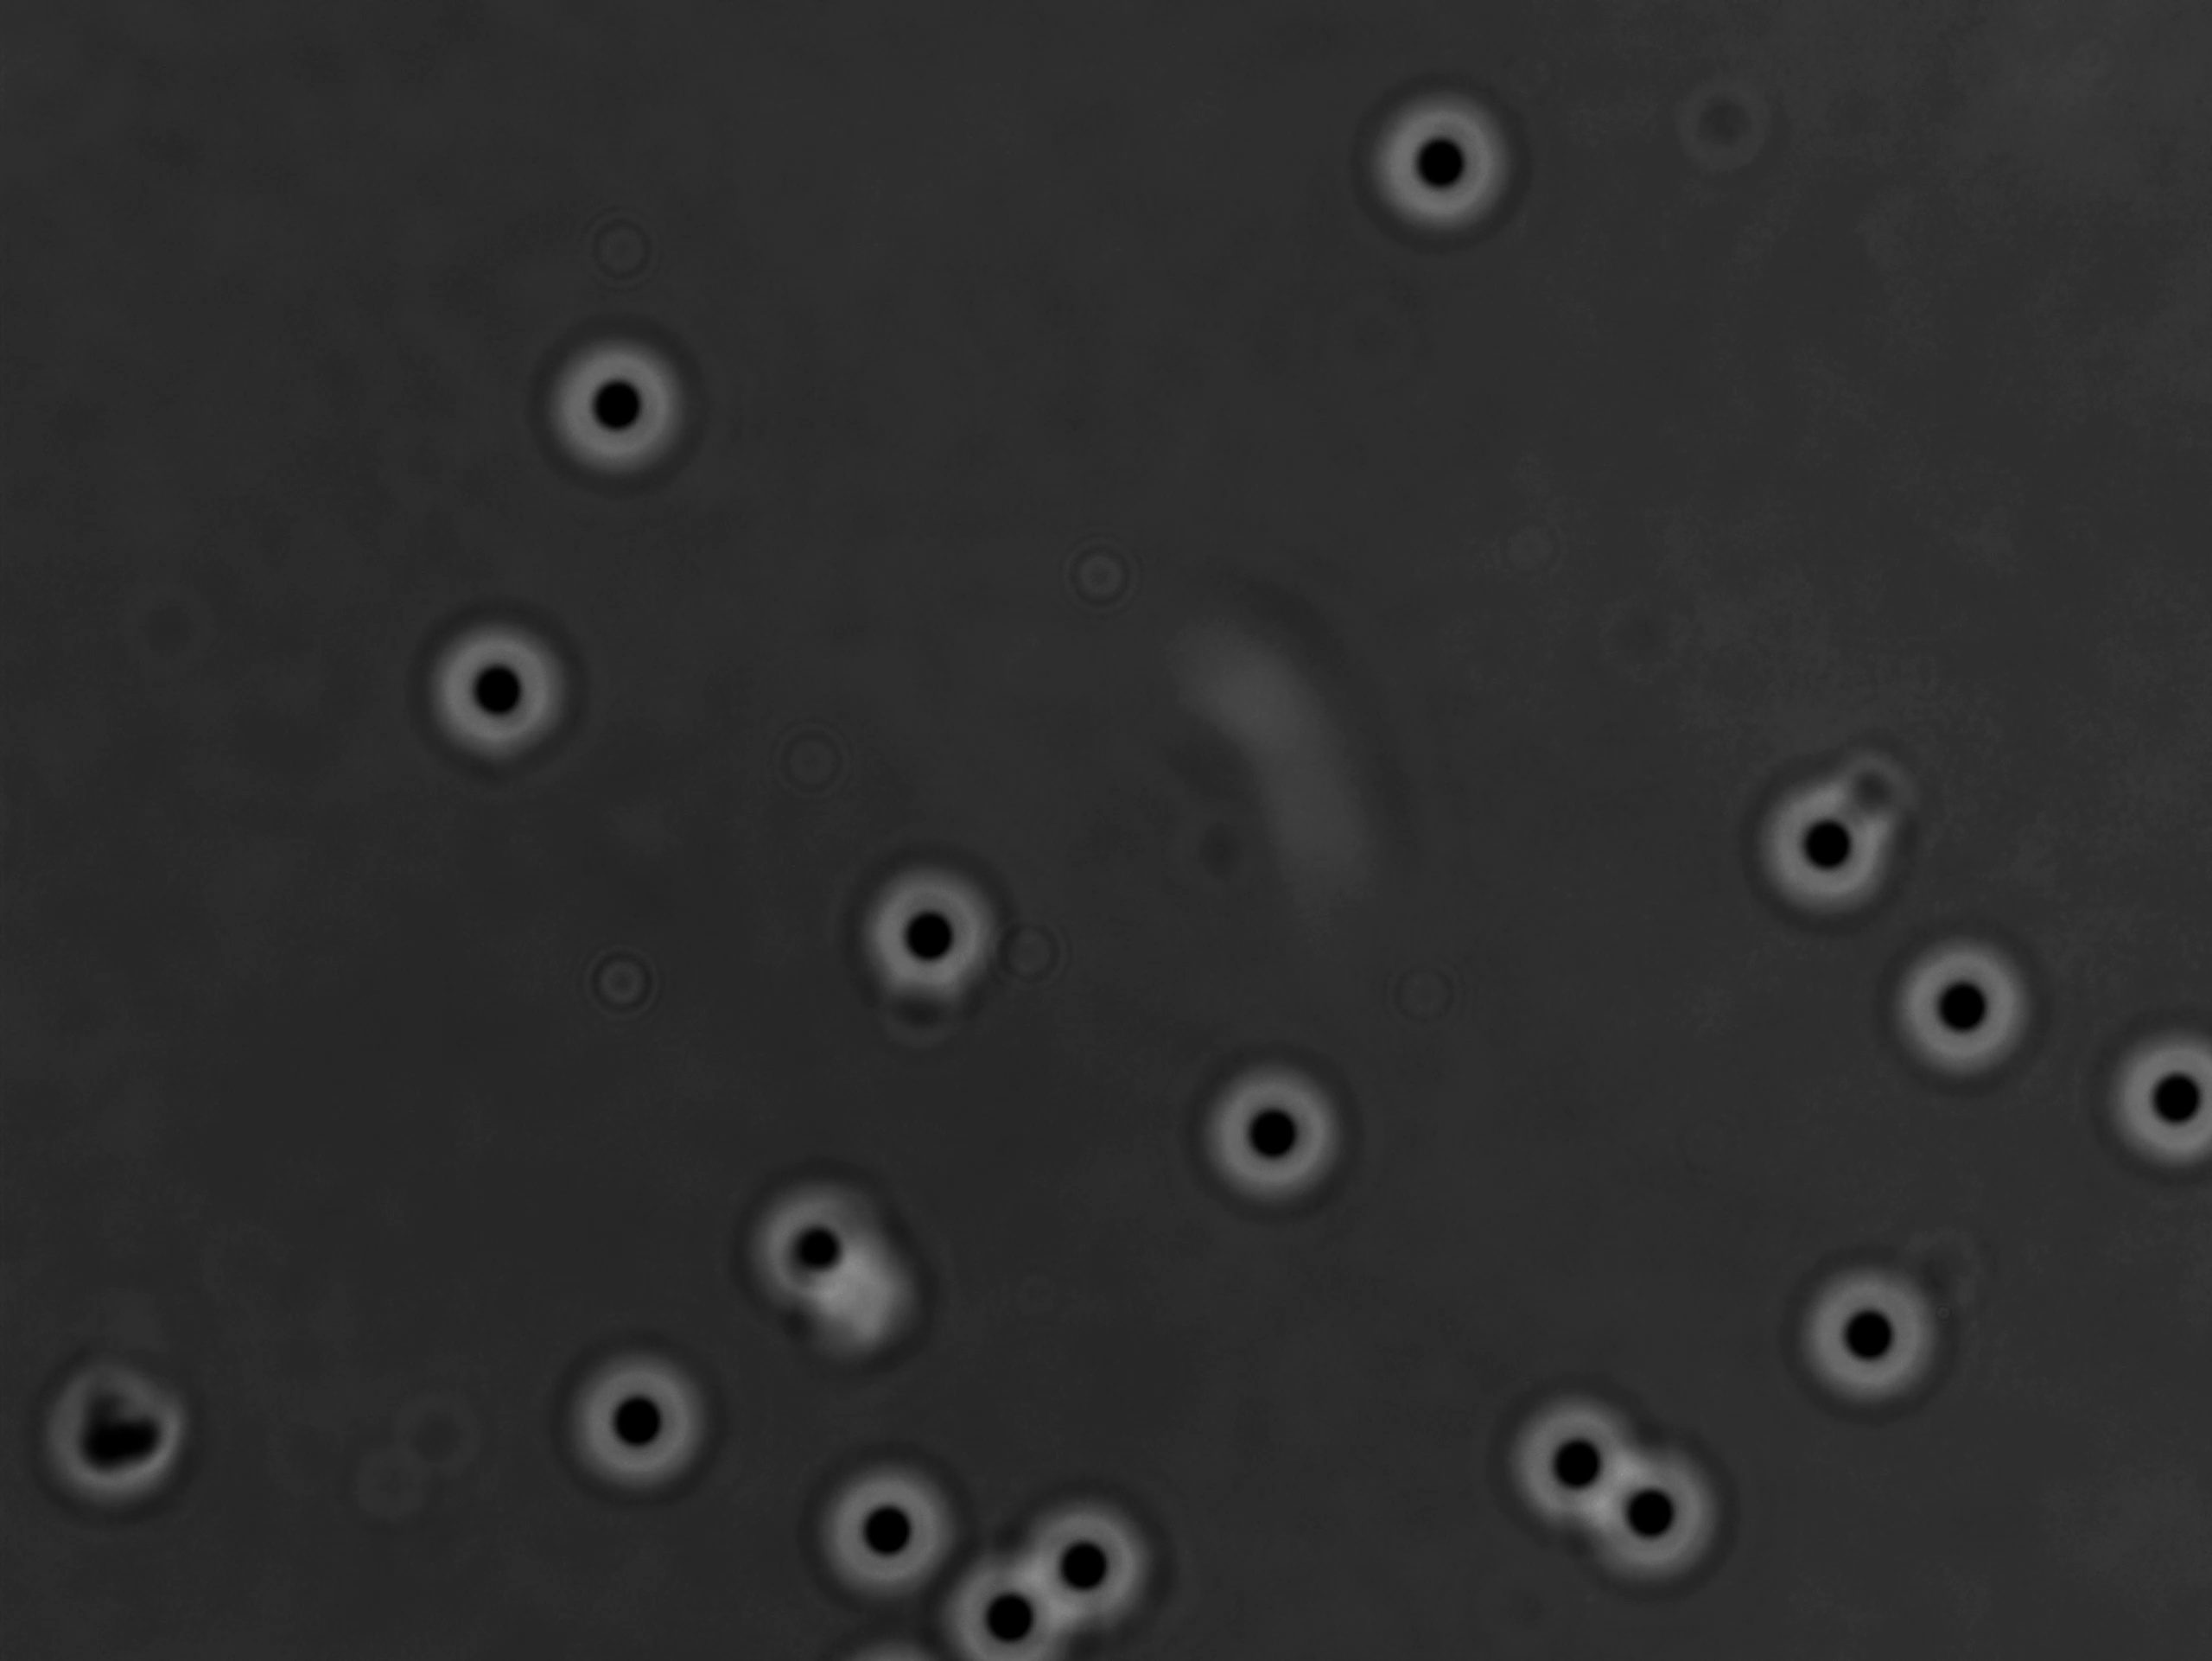depth:-40: (398, 593, 584, 776), (1732, 748, 1921, 930), (1190, 1038, 1376, 1220), (1870, 923, 2060, 1101), (1781, 1239, 1964, 1418), (844, 836, 1022, 1021), (550, 1329, 717, 1506), (539, 318, 705, 483), (802, 1455, 977, 1610), (1359, 89, 1519, 248), (1000, 1488, 1164, 1642), (2081, 1005, 2212, 1181)
